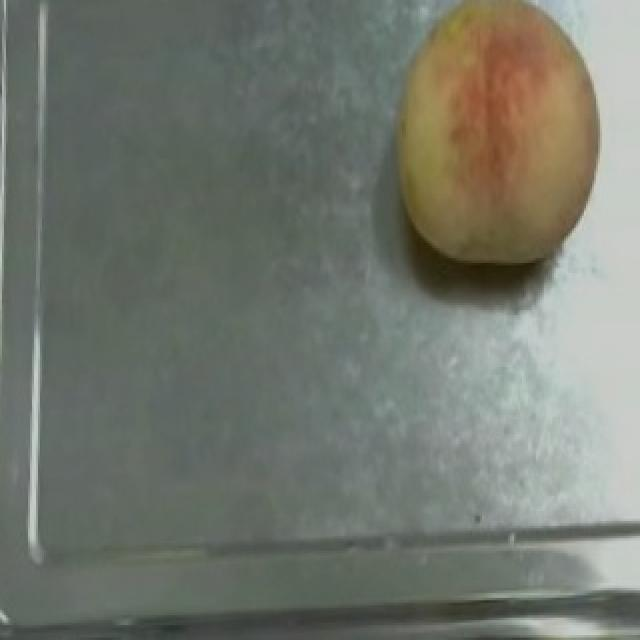Fruit: (358, 0, 626, 290)
